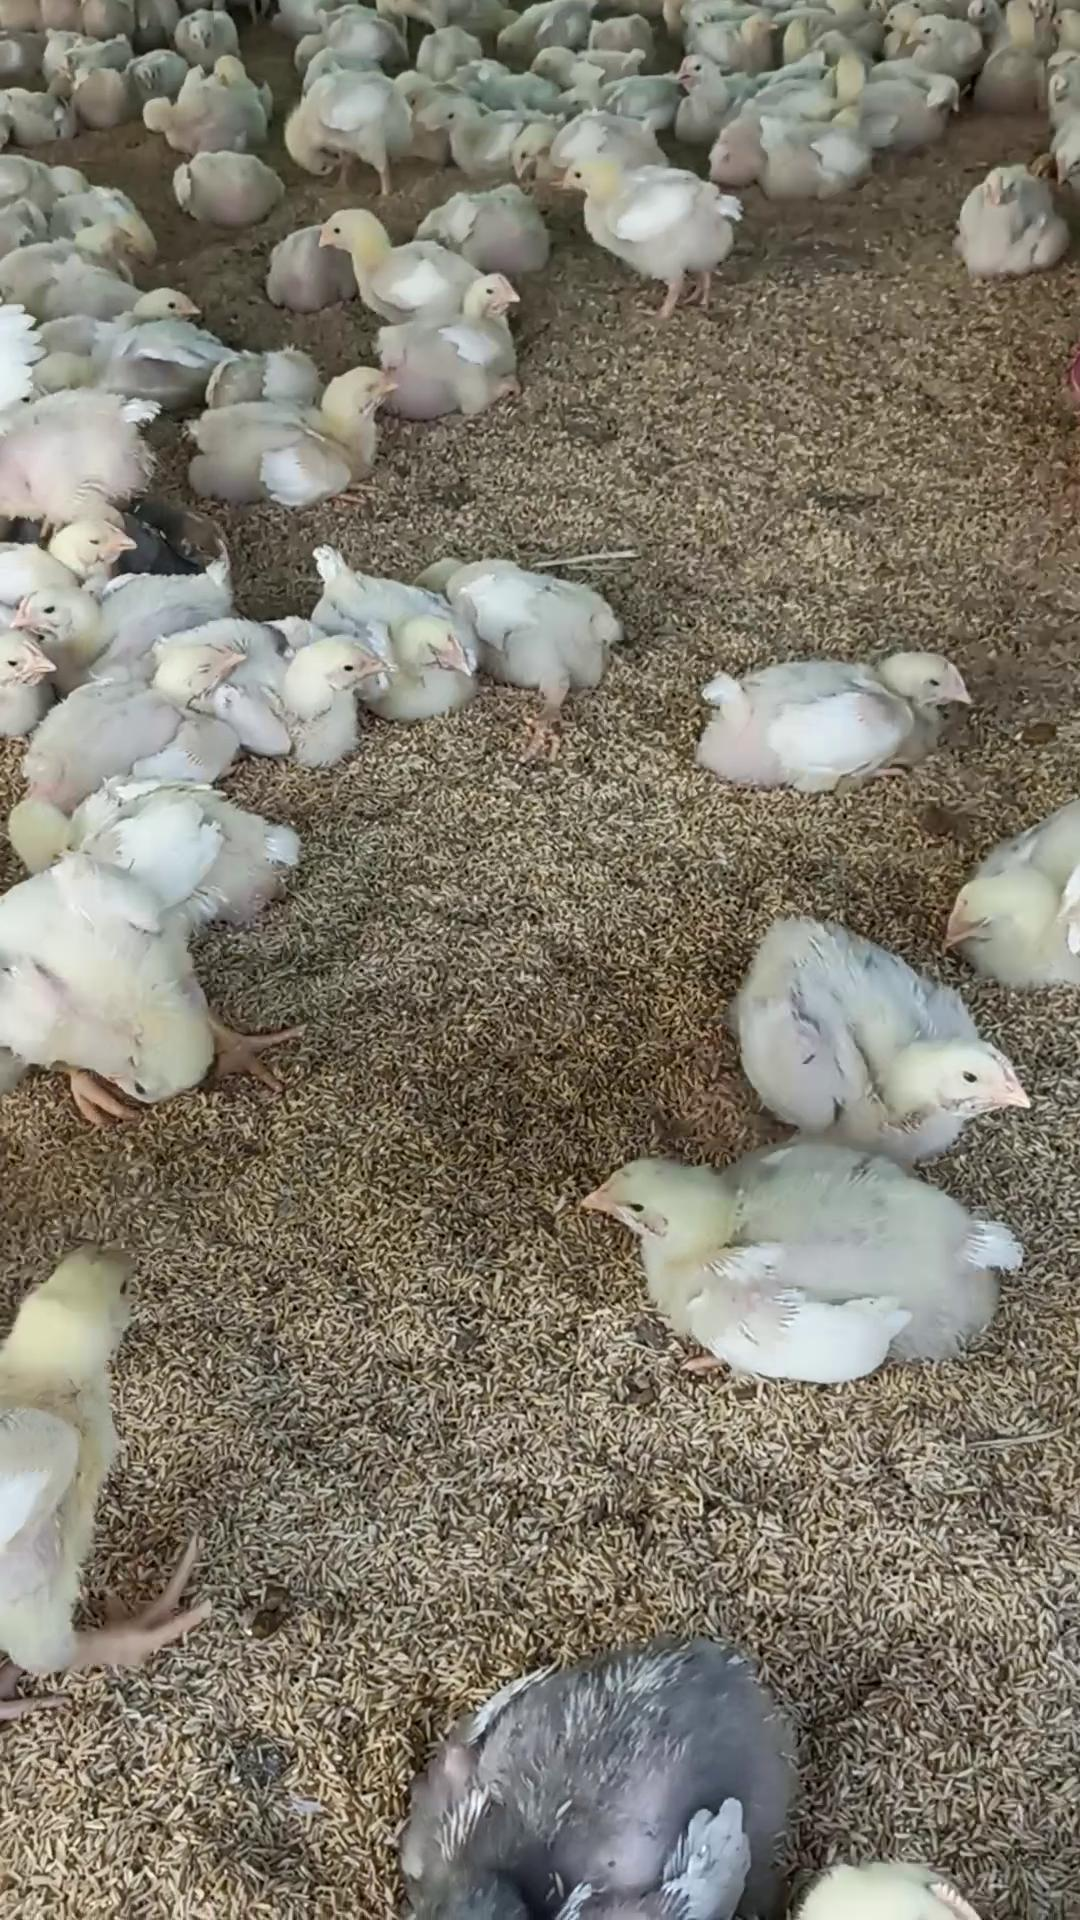Pollos: (584, 1145, 1019, 1386), (0, 1234, 167, 1704), (733, 909, 1019, 1150), (702, 644, 975, 782), (22, 649, 237, 806), (196, 364, 398, 493), (311, 542, 469, 705), (460, 539, 618, 702), (225, 608, 390, 764), (949, 795, 1080, 982), (560, 157, 733, 285), (386, 265, 521, 429), (12, 564, 253, 647), (40, 284, 206, 394), (284, 70, 414, 178), (953, 164, 1069, 280), (320, 210, 444, 309), (171, 145, 274, 225), (903, 11, 978, 71), (669, 55, 733, 113), (170, 7, 237, 55)
